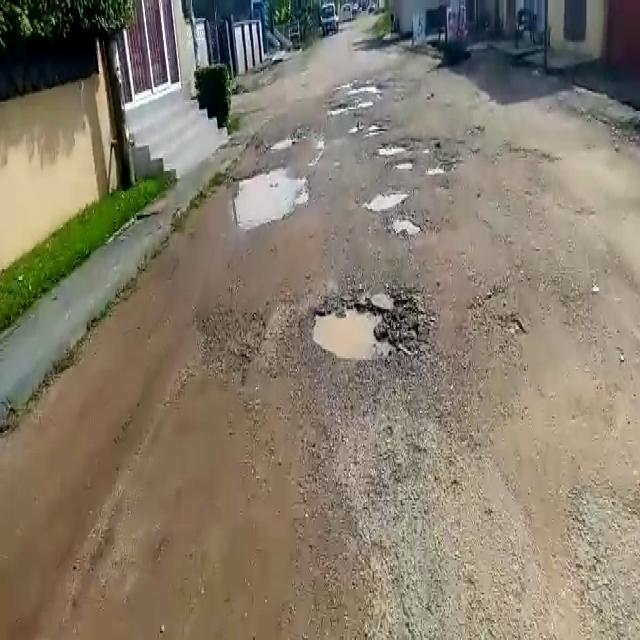Pothole: (307, 291, 418, 362), (234, 162, 310, 227), (362, 187, 408, 211), (388, 214, 428, 238), (350, 118, 392, 135), (371, 141, 412, 155), (270, 138, 295, 150), (425, 167, 445, 178), (393, 161, 414, 171)
